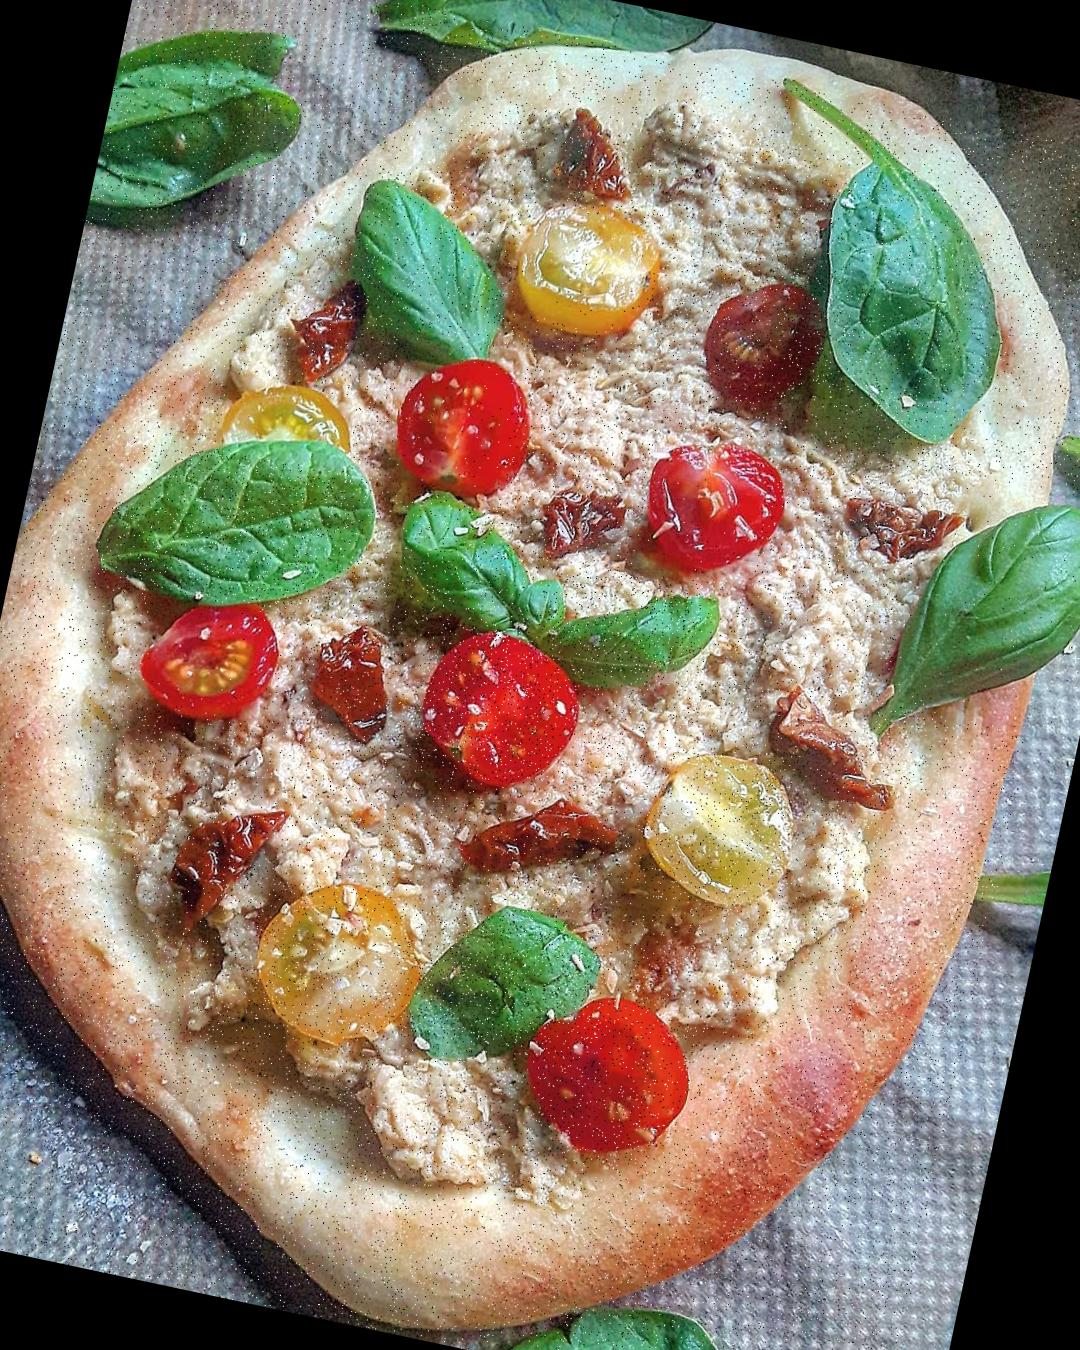Basil: (768, 112, 1049, 456), (883, 468, 1080, 739), (99, 421, 361, 622), (333, 172, 525, 376), (404, 890, 605, 1069), (389, 495, 554, 652), (539, 559, 704, 685)
Pizza: (0, 0, 1080, 1350)
Tomatoes: (235, 876, 425, 1059), (526, 989, 699, 1176), (404, 622, 571, 789), (378, 330, 529, 508), (638, 746, 795, 916), (631, 424, 779, 594), (509, 203, 662, 339), (134, 590, 282, 722), (701, 253, 823, 407), (215, 372, 356, 474)
